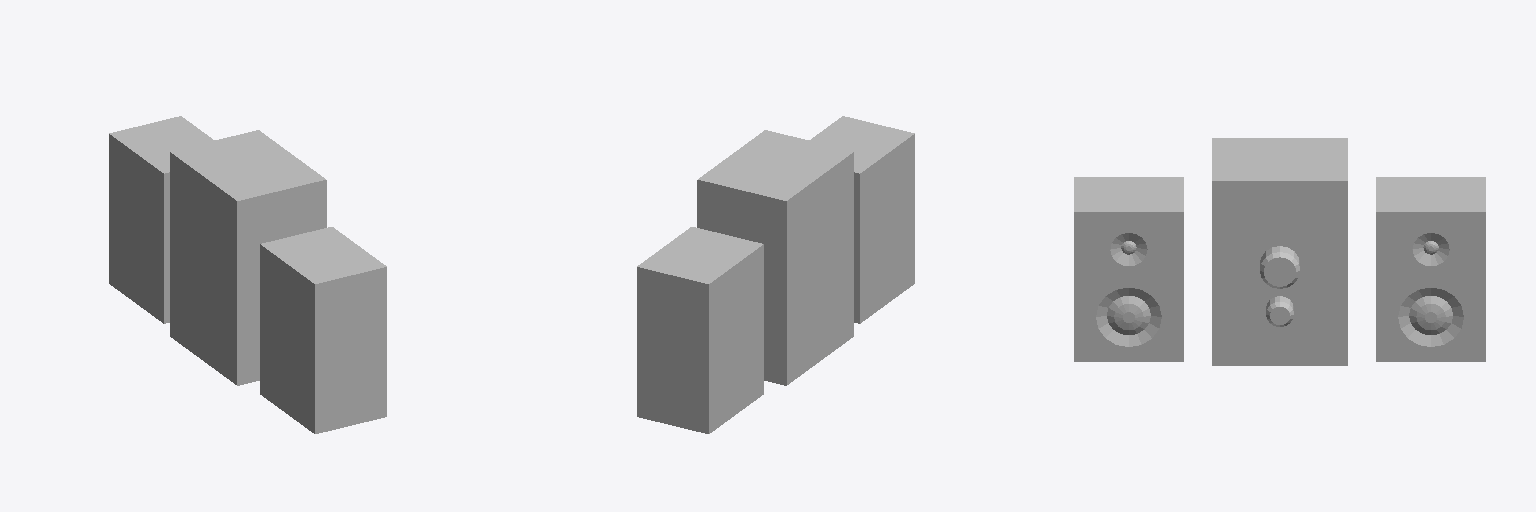
Rendered from speaker.obj.
The picture shows the model from 3 angles: view 1: azimuth 30°, elevation 25°; view 2: azimuth 150°, elevation 25°; view 3: azimuth 270°, elevation 25°; orthographic projection.
Parts seen in each view (by area): view 1: HIFI_Stereo; view 2: HIFI_Stereo; view 3: HIFI_Stereo.
Part boxes in pixels (x1,y1,x2,y2): HIFI_Stereo: (109, 116, 386, 433); HIFI_Stereo: (637, 116, 914, 433); HIFI_Stereo: (1074, 138, 1485, 365).
Size of the model in its own units: 23.53 by 39.58 by 80.06.